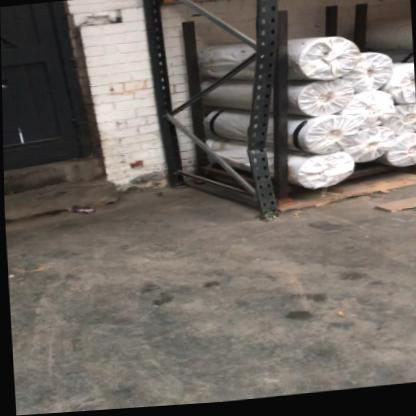vertical_damage: (246, 125, 285, 195)
